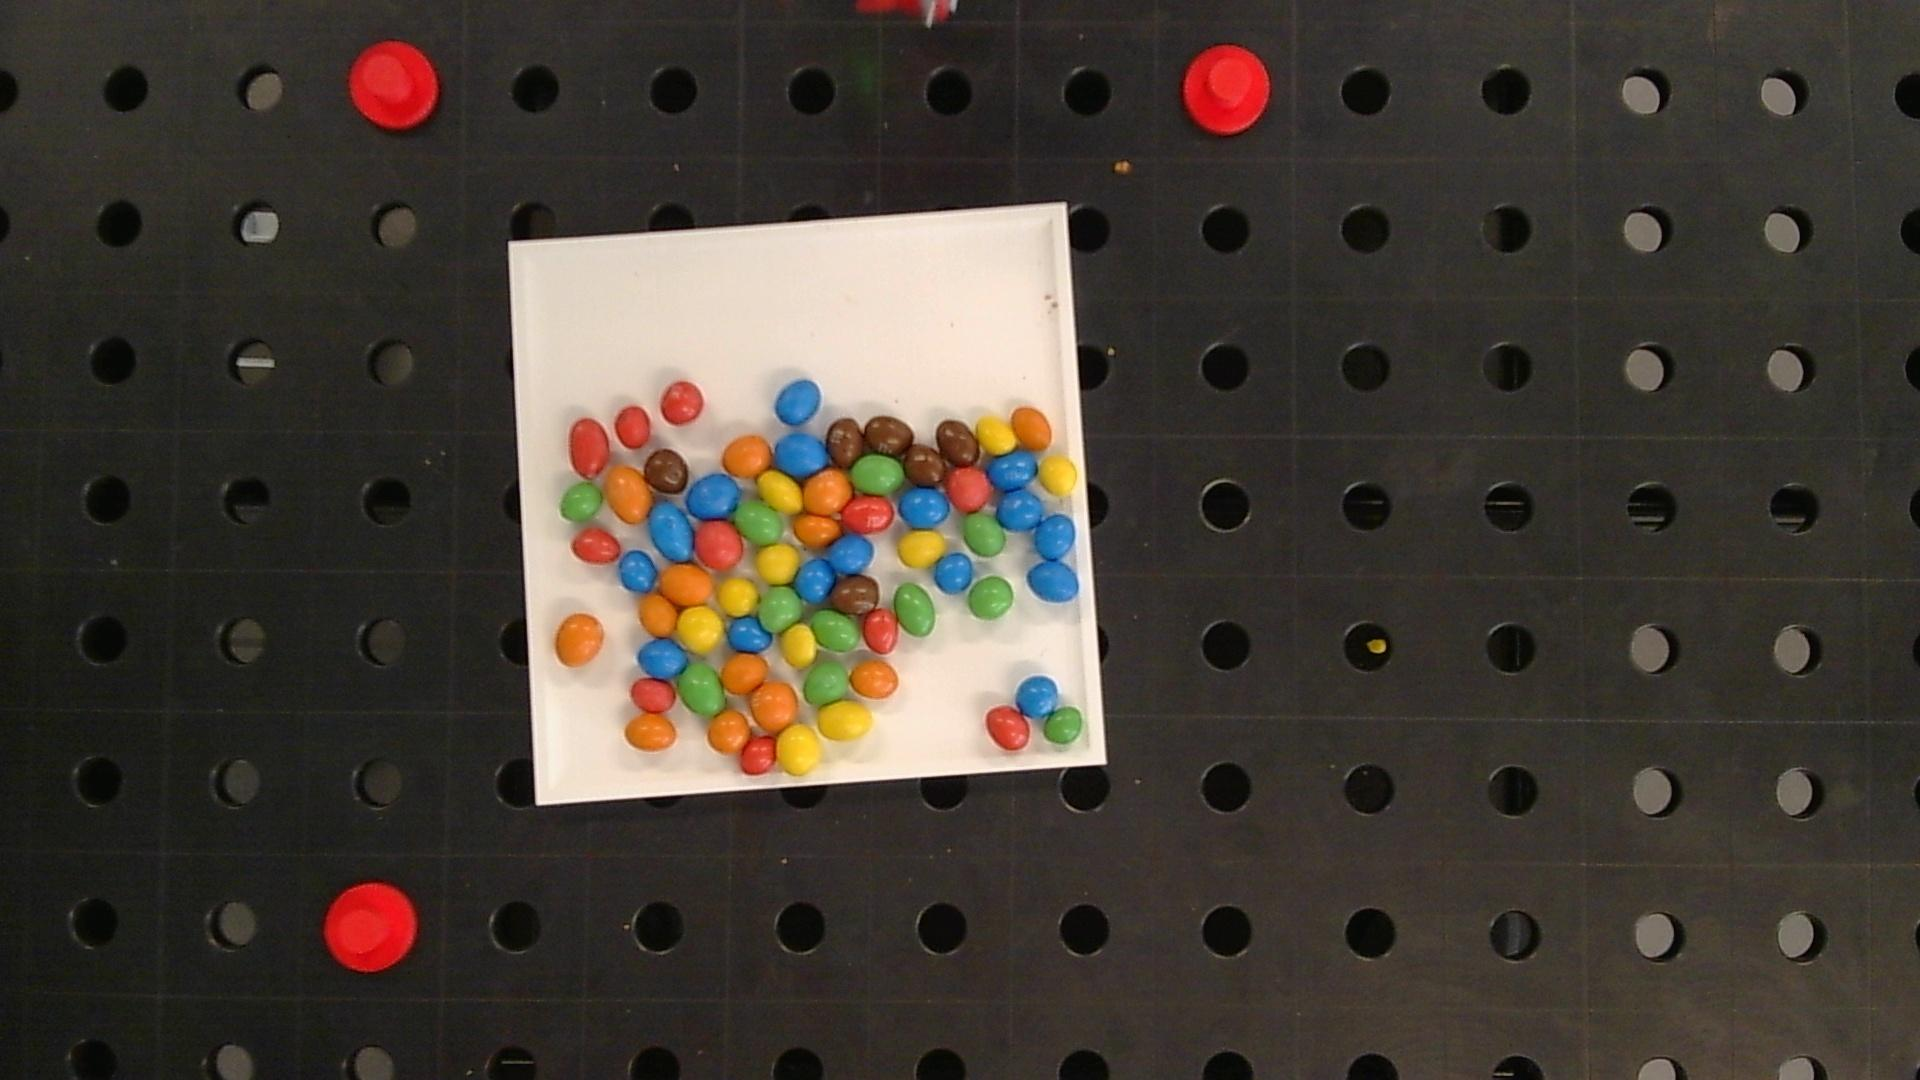blue: (650, 504, 694, 560), (687, 473, 740, 518), (1027, 560, 1079, 603), (777, 434, 828, 475), (775, 380, 820, 425), (899, 487, 948, 527), (988, 451, 1038, 489), (638, 638, 687, 676), (998, 491, 1044, 530), (1035, 514, 1075, 560), (795, 558, 835, 603), (1017, 675, 1059, 716), (831, 534, 873, 574), (727, 616, 771, 651), (618, 551, 657, 592), (935, 554, 973, 593)
brown: (864, 415, 914, 456), (645, 448, 688, 493), (938, 421, 980, 467), (827, 417, 864, 465), (835, 576, 880, 613), (905, 444, 944, 485)
green: (679, 662, 724, 715), (894, 583, 935, 637), (852, 454, 905, 495), (735, 501, 785, 543), (968, 576, 1014, 620), (812, 609, 860, 651), (804, 662, 849, 704), (964, 513, 1006, 556), (760, 588, 803, 630), (559, 483, 603, 522), (1043, 707, 1085, 745)
orange: (605, 465, 653, 522), (555, 613, 604, 665), (750, 682, 798, 732), (659, 564, 713, 604), (723, 434, 773, 476), (804, 469, 851, 512), (624, 715, 676, 750), (851, 661, 899, 698), (708, 711, 750, 753), (723, 654, 766, 694), (1011, 406, 1051, 448), (794, 513, 840, 547), (640, 593, 676, 636)
red: (568, 418, 609, 476), (695, 522, 742, 568), (985, 705, 1030, 749), (843, 496, 894, 533), (945, 468, 992, 509), (661, 381, 704, 423), (571, 529, 620, 563), (864, 608, 898, 654), (630, 678, 675, 712), (615, 406, 650, 448), (740, 738, 777, 774)
yellow: (816, 700, 873, 740), (777, 725, 820, 774), (678, 607, 724, 651), (758, 471, 802, 512), (898, 531, 945, 567), (757, 545, 799, 583), (976, 415, 1015, 454), (1040, 455, 1077, 495), (781, 625, 816, 666), (719, 578, 757, 613)
